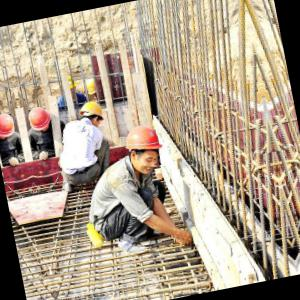helmet: (118, 120, 166, 176), (80, 98, 110, 133), (28, 103, 57, 135), (1, 110, 20, 144), (82, 76, 104, 102), (63, 73, 81, 98)
